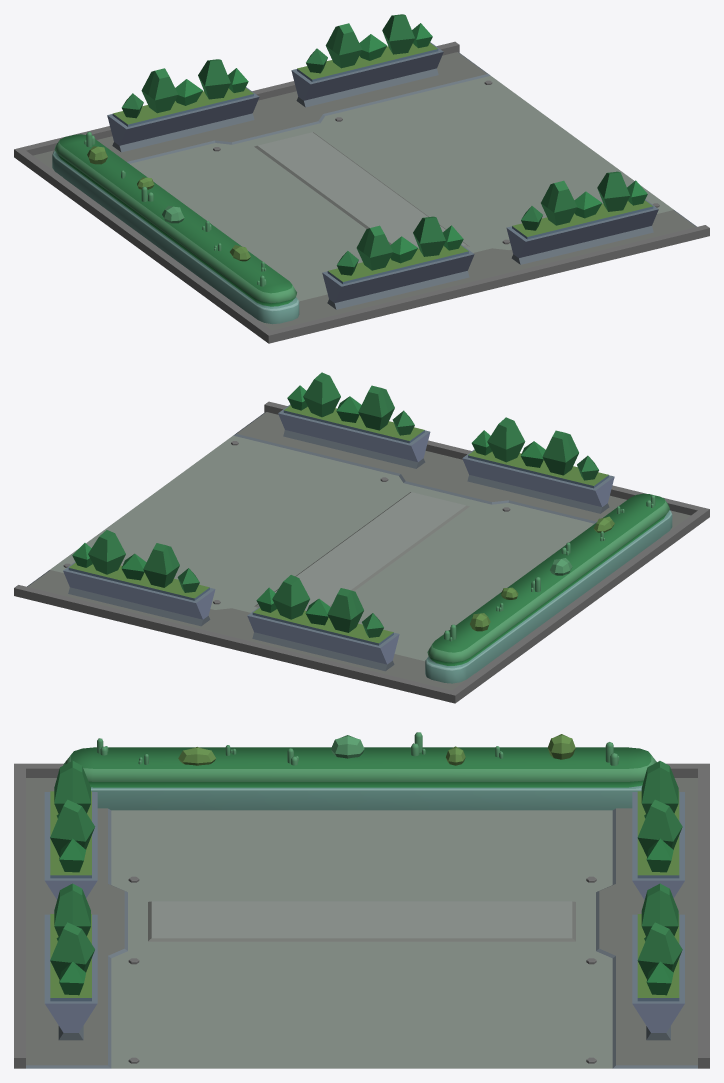
The model's file is DeadEnd_B.gltf.
3 views of the same model, one above another, from view 1: azimuth 30°, elevation 25°; view 2: azimuth 150°, elevation 25°; view 3: azimuth 270°, elevation 25° (orthographic). The views are drawn at different scales.
Visible parts, largest first — view 1: Scifi_Panel_01 Plaza014_group4.030; view 2: Scifi_Panel_01 Plaza014_group4.030; view 3: Scifi_Panel_01 Plaza014_group4.030.
Boxes of the visible parts, box(x1,y1,x2,y2) form: Scifi_Panel_01 Plaza014_group4.030: box(14, 14, 709, 343); Scifi_Panel_01 Plaza014_group4.030: box(14, 372, 709, 703); Scifi_Panel_01 Plaza014_group4.030: box(14, 732, 709, 1068).
Size of what is drawn, in the model's own units: 10 by 1.53 by 10.
Materials: 1 (1 with a texture image).
